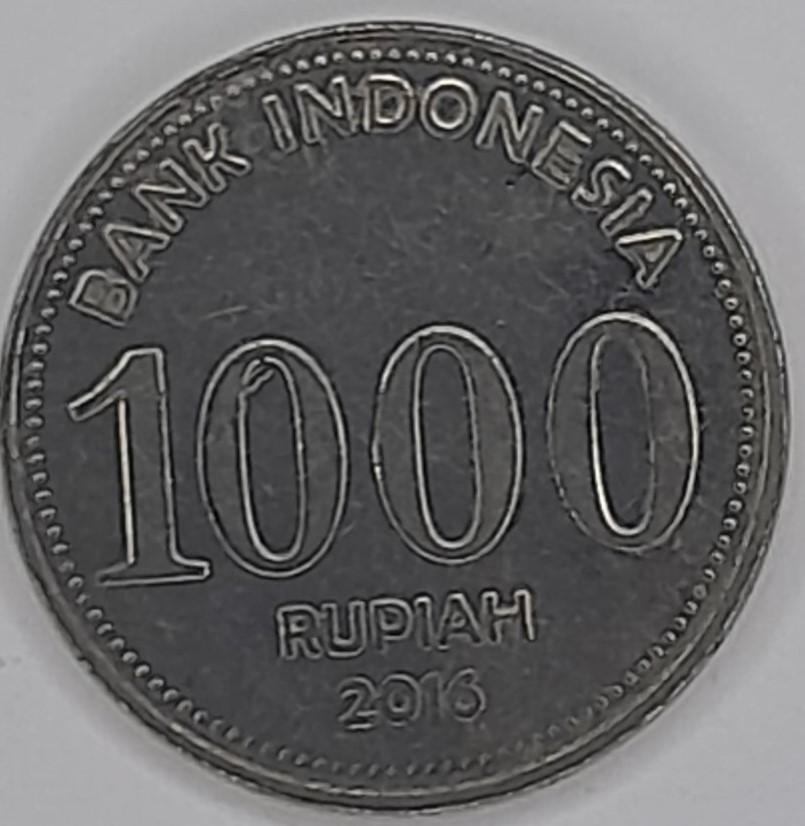coin_1000_e2016: (14, 16, 794, 826)
